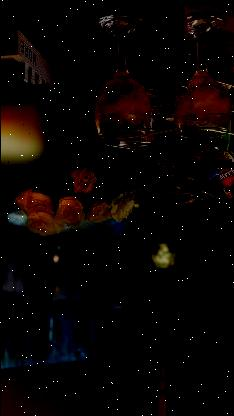Can: (142, 0, 188, 98)
